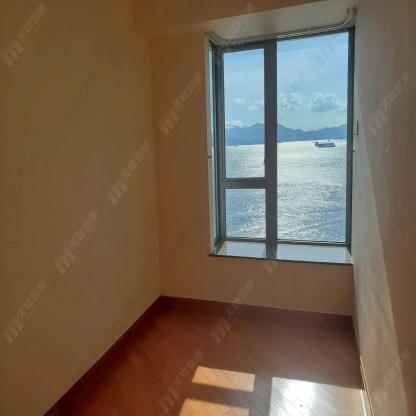Windowsill: (204, 0, 359, 266)
